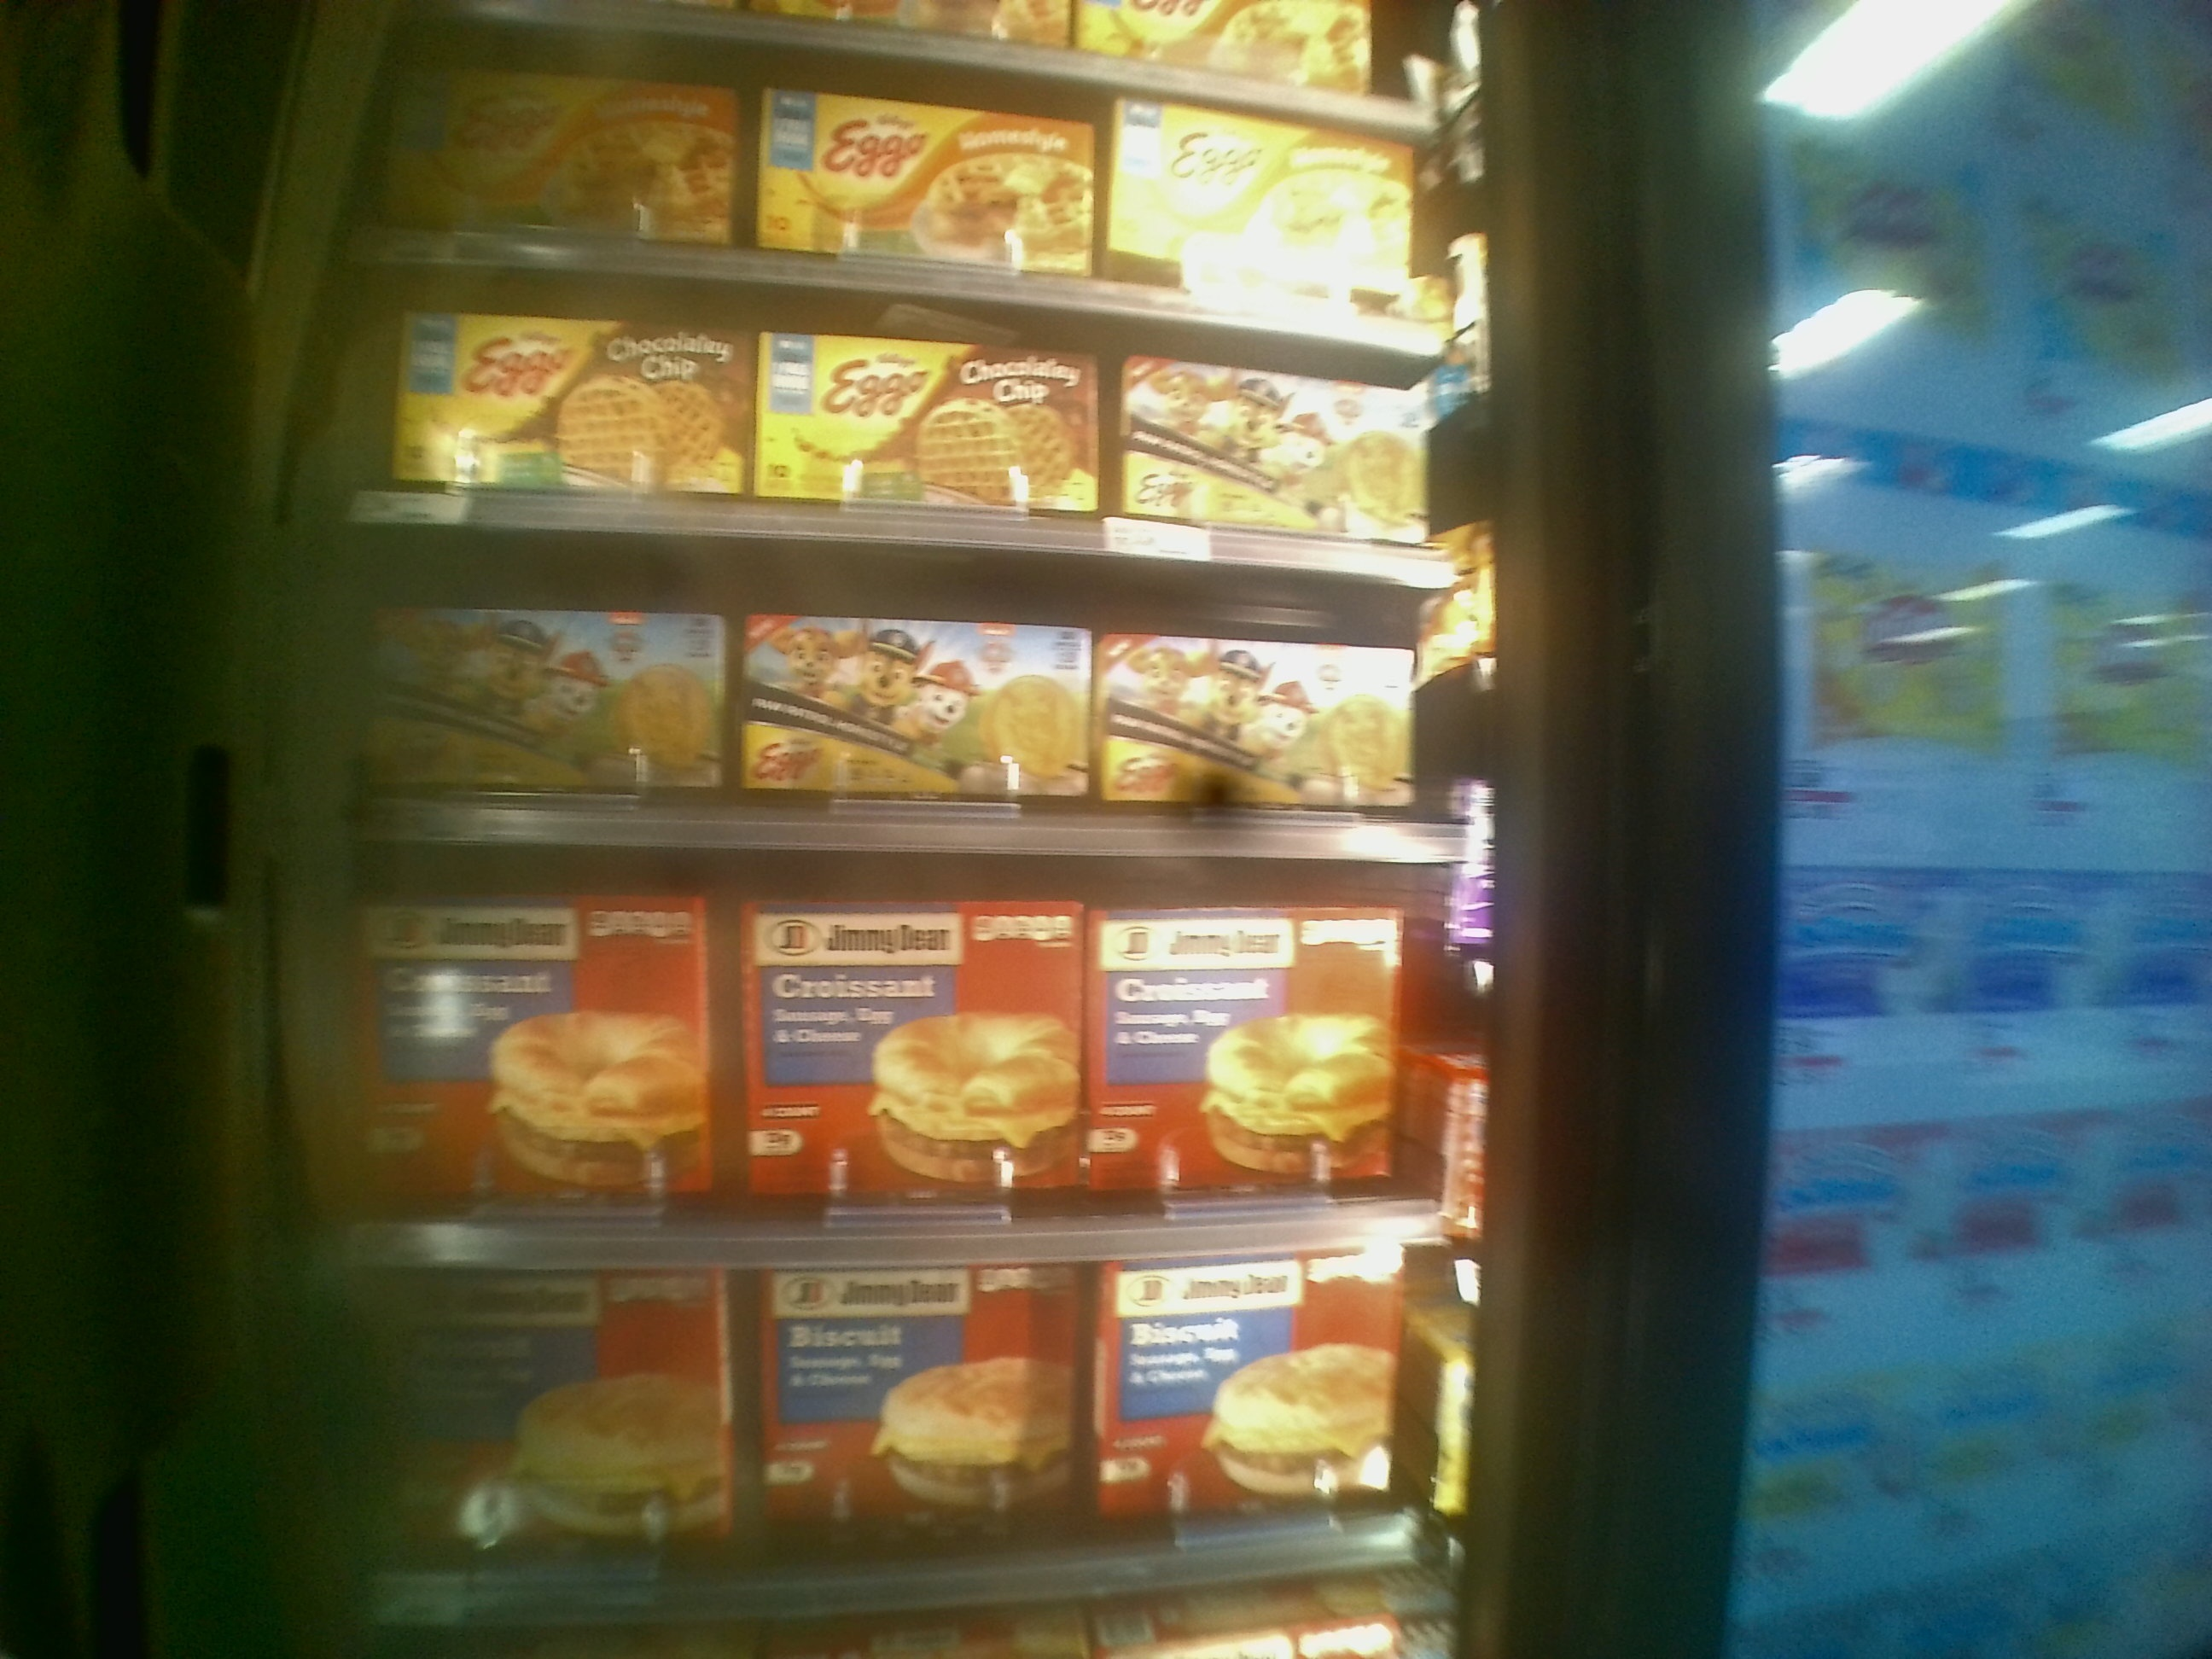shelf: (355, 838, 1463, 1270)
